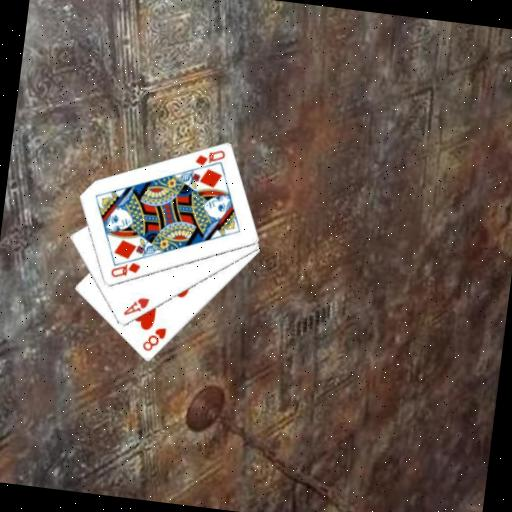8H: (139, 322, 169, 355)
AH: (120, 292, 152, 320)
QD: (192, 144, 228, 170), (108, 257, 143, 283)
